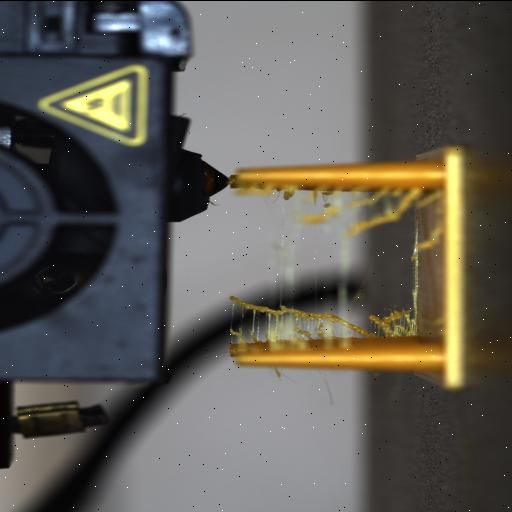stringing: (228, 294, 278, 318), (248, 326, 256, 340), (311, 190, 319, 204)
